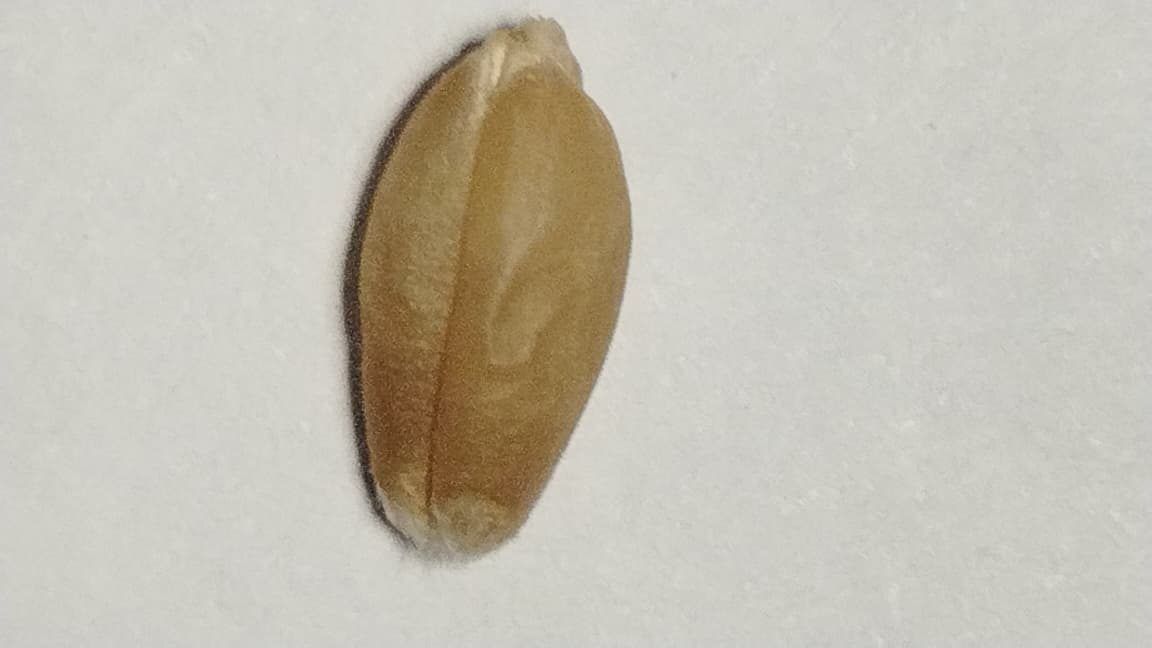healthy: (357, 19, 630, 544)
